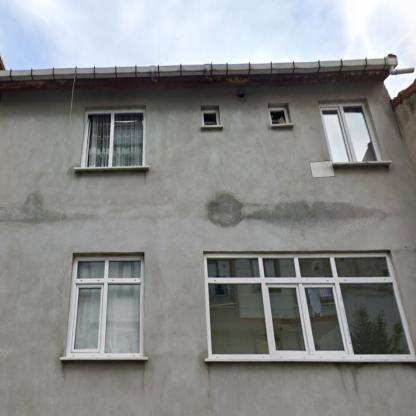window: (203, 254, 412, 355), (68, 258, 143, 356), (320, 105, 378, 163), (83, 113, 144, 166), (269, 108, 288, 124), (203, 111, 218, 126)
